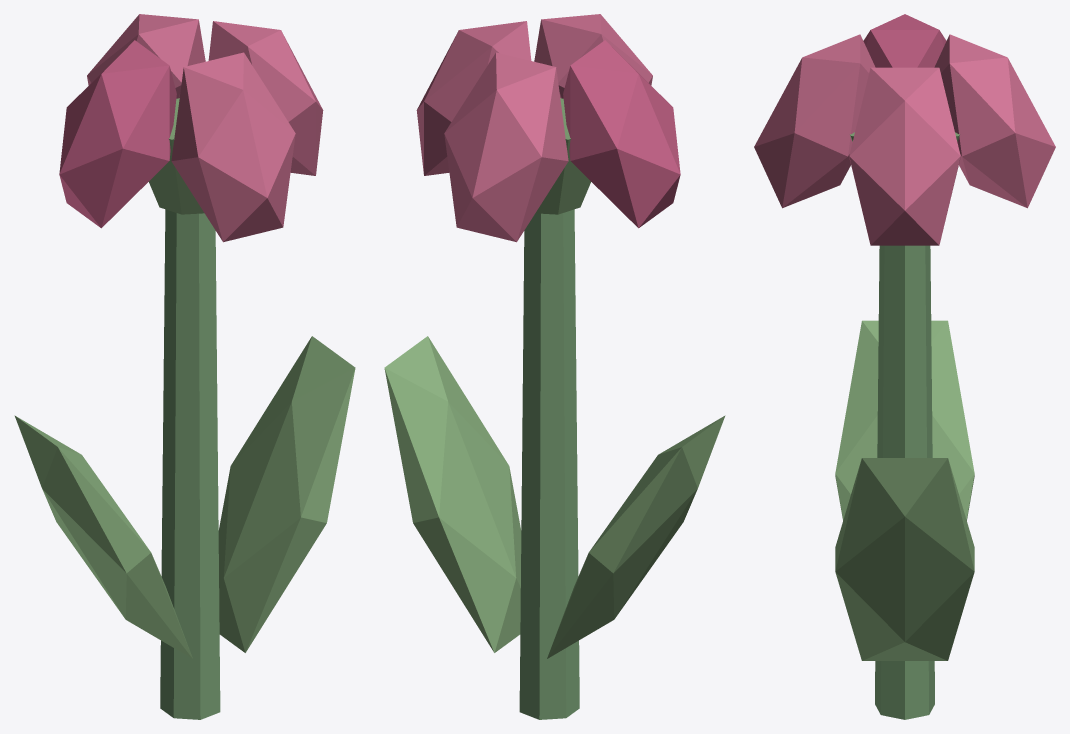
3 renders of one model, left to right at view 1: azimuth 30°, elevation 25°; view 2: azimuth 150°, elevation 25°; view 3: azimuth 270°, elevation 25°, orthographic.
Visible parts, largest first — view 1: part0, part6, part5, part3, part7, part2, part4, part1; view 2: part0, part6, part4, part3, part7, part2, part5, part1; view 3: part6, part2, part0, part4, part5, part7, part3.
Part boxes in pixels (box(x1,y1,x2,y2)): part0: box(160, 209, 220, 719); part6: box(218, 336, 355, 652); part5: box(171, 52, 295, 242); part3: box(59, 40, 176, 228); part7: box(14, 415, 192, 658); part2: box(208, 21, 323, 175); part4: box(87, 14, 205, 98); part1: box(149, 98, 204, 214); part0: box(519, 209, 579, 719); part6: box(384, 336, 521, 652); part4: box(444, 52, 568, 242); part3: box(563, 40, 680, 228); part7: box(547, 415, 725, 658); part2: box(416, 21, 531, 175); part5: box(534, 14, 652, 98); part1: box(535, 98, 590, 214); part6: box(835, 458, 974, 660); part2: box(849, 67, 960, 245); part0: box(875, 245, 934, 719); part4: box(934, 34, 1055, 208); part5: box(754, 34, 875, 208); part7: box(835, 320, 974, 520); part3: box(863, 14, 946, 67).
Bounding box in the file's own units: 1.87 × 3.99 × 1.66.
